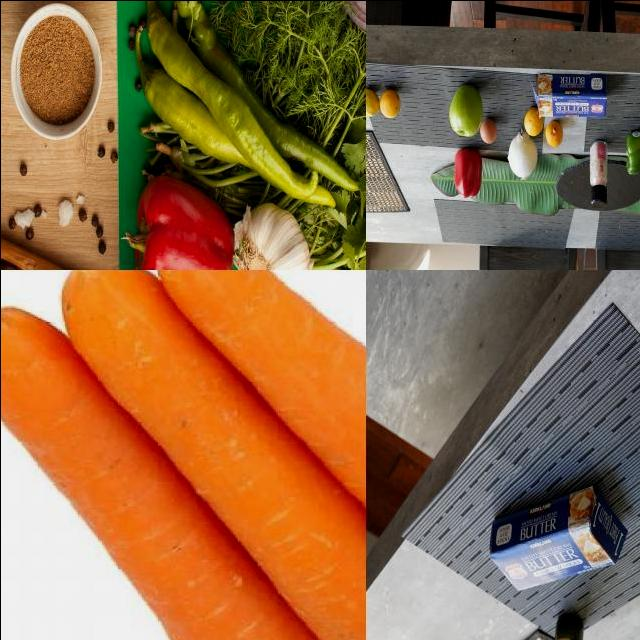bell_pepper: (124, 178, 237, 270), (451, 150, 485, 202), (625, 131, 640, 177)
carrot: (1, 304, 341, 640), (61, 270, 366, 640), (152, 270, 366, 640)
egg: (478, 116, 500, 148)
garlic: (231, 198, 311, 270)
onion: (506, 138, 538, 183)
